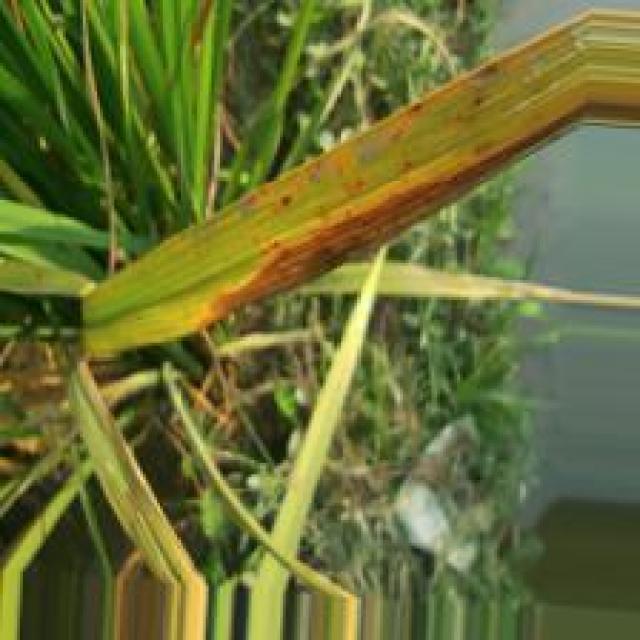Bacterial_Leaf_Blight: (92, 7, 640, 362)
